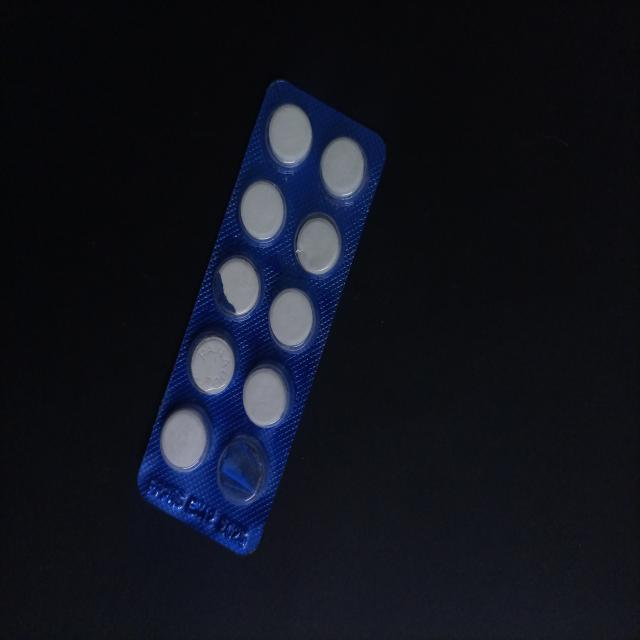defect: (214, 431, 271, 508), (210, 251, 264, 325)
